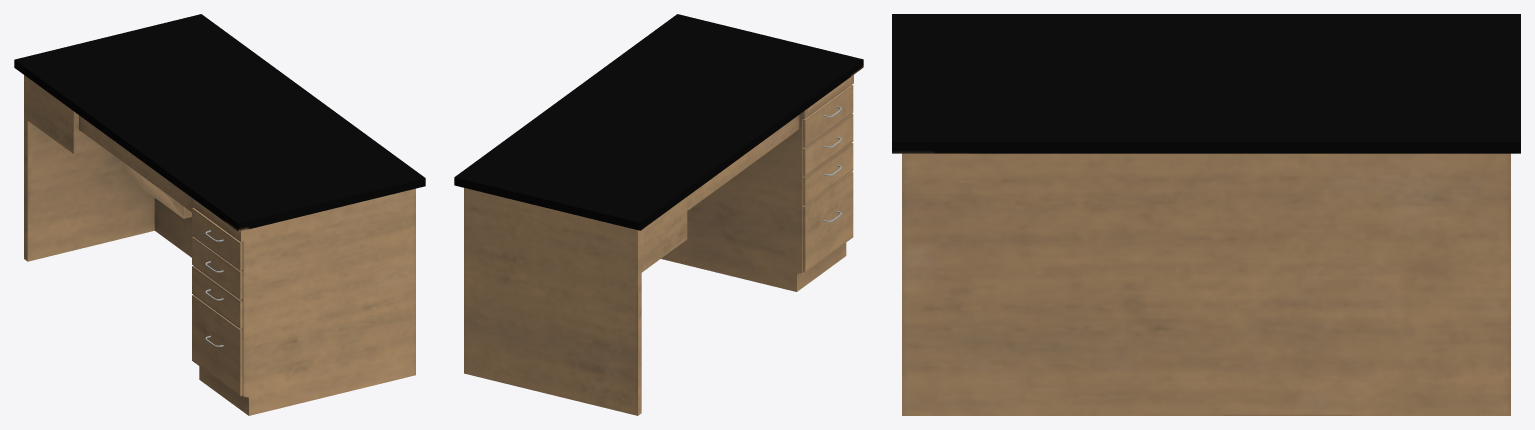
The model's file is scienceLabInstructorTable.glb.
3 renders of one model, left to right at view 1: azimuth 30°, elevation 25°; view 2: azimuth 150°, elevation 25°; view 3: azimuth 270°, elevation 25°, orthographic. The views are drawn at different scales.
Parts seen in each view (by area): view 1: Table.001; view 2: Table.001; view 3: Table.001.
Part boxes in pixels (<box>): Table.001: <box>14,14,425,415</box>; Table.001: <box>454,14,863,415</box>; Table.001: <box>892,14,1520,415</box>.
Size of the model in its own units: 10.06 by 10.13 by 20.75.
Materials: 1 (1 with a texture image).
